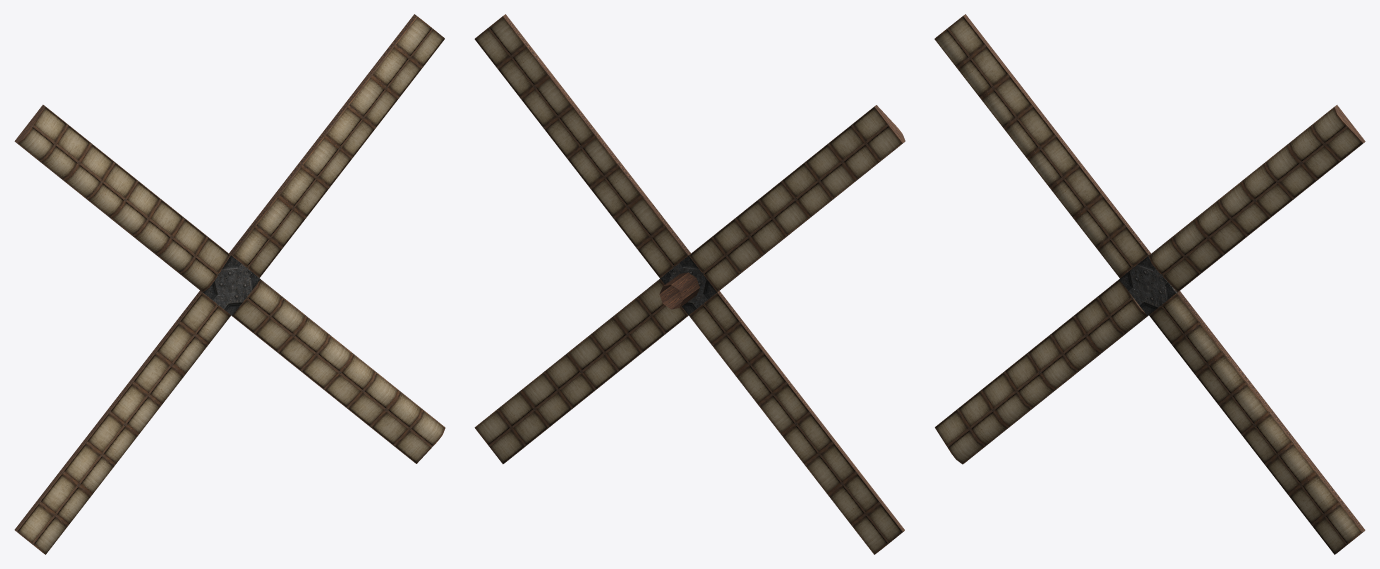
The model's file is mm9_deco_windmill.glb.
3 views of the same model, side by side, from view 1: azimuth 30°, elevation 25°; view 2: azimuth 150°, elevation 25°; view 3: azimuth 330°, elevation 25° (orthographic).
Parts seen in each view (by area): view 1: Windmill; view 2: Windmill; view 3: Windmill.
Boxes of the visible parts, left/top/right/bottom form: Windmill: left=14, top=14, right=445, bottom=554; Windmill: left=474, top=14, right=905, bottom=554; Windmill: left=934, top=14, right=1365, bottom=554.
Size of the model in its own units: 21.28 by 21.28 by 1.86.
2 materials, 2 textured.
